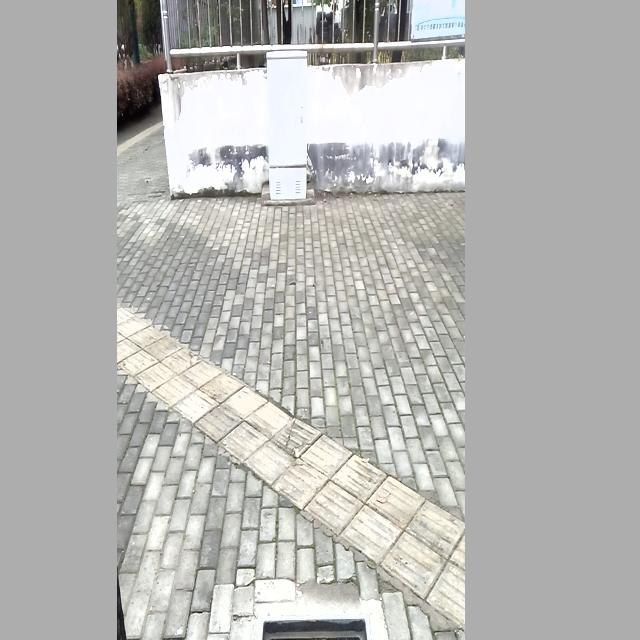lose: (239, 572, 401, 640)
